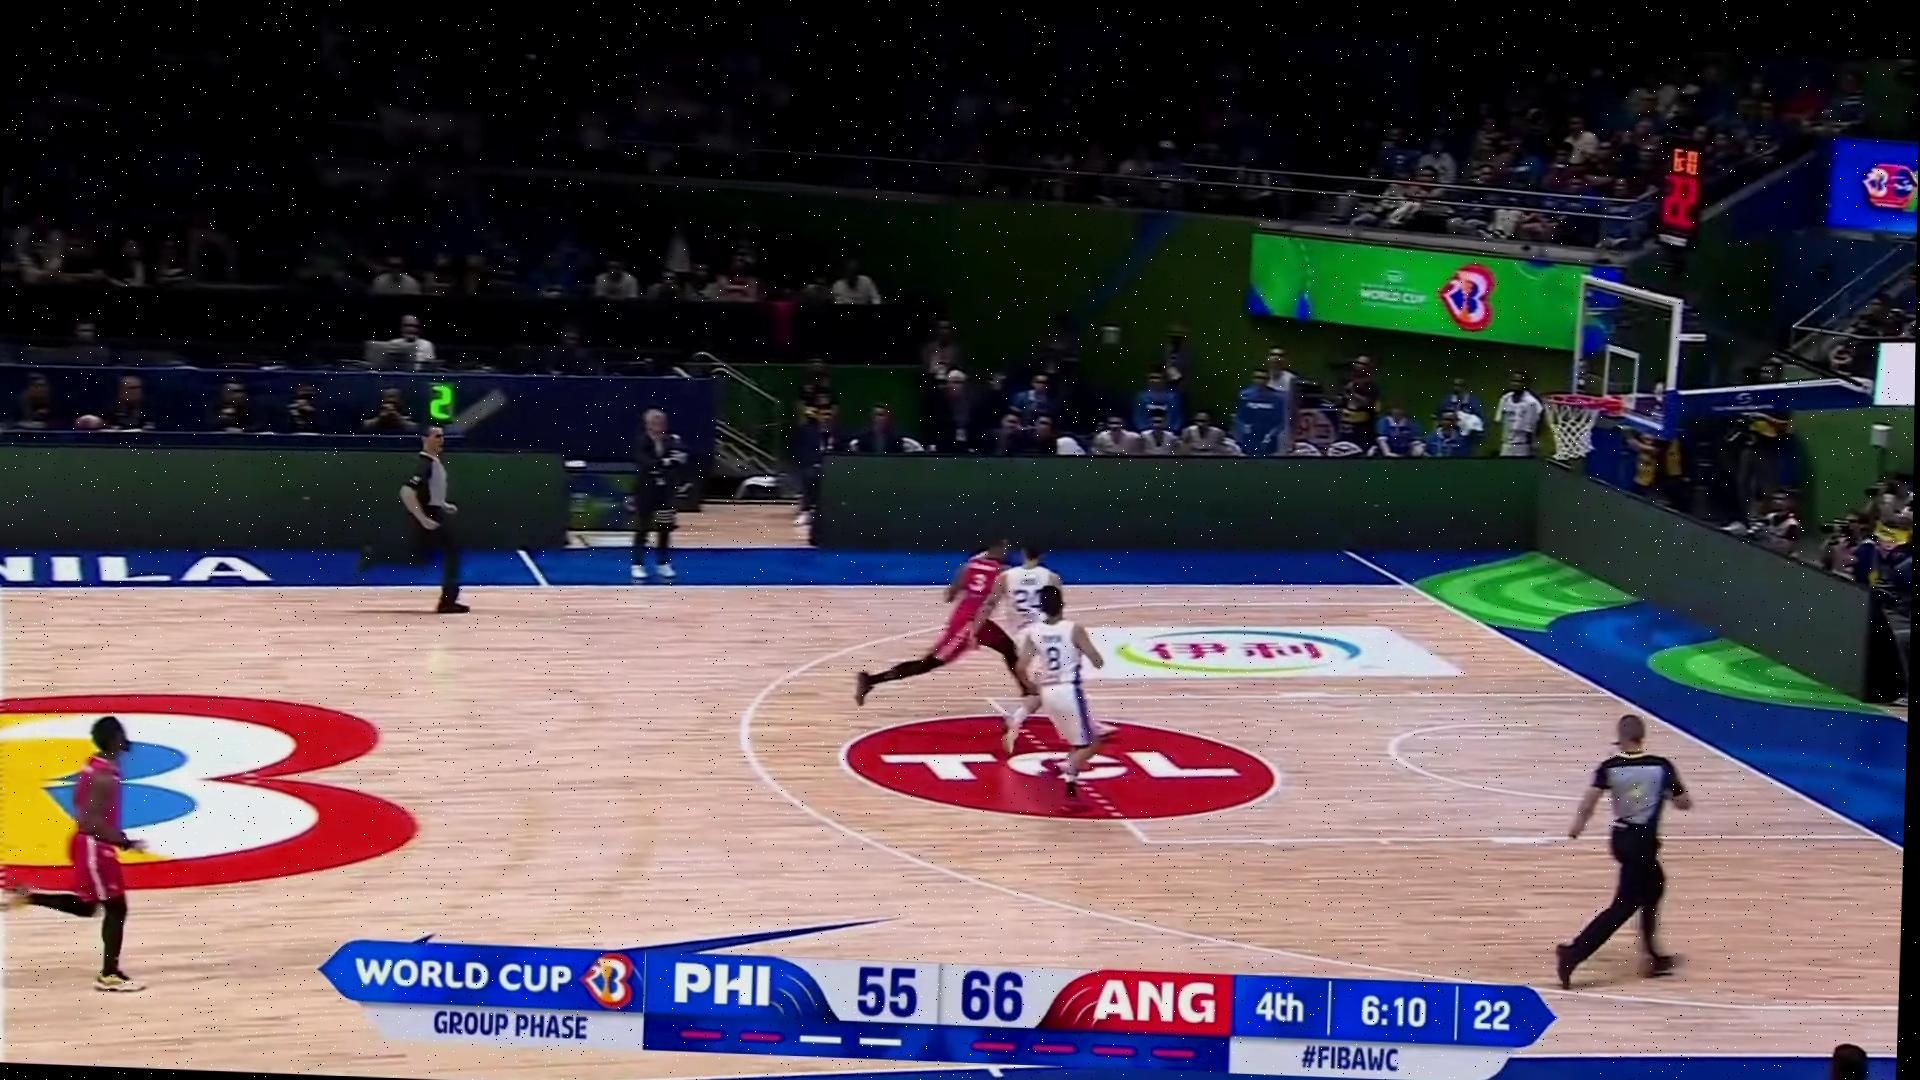no_foul: (882, 508, 1143, 787)
